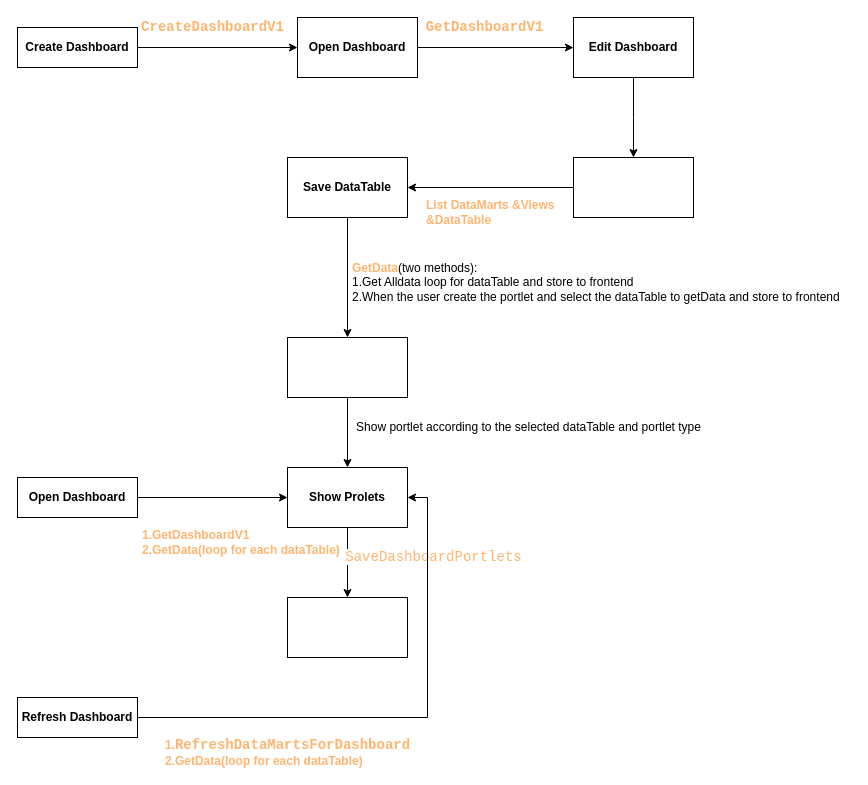
The diagram is 868 pixels wide and 785 high, and some of its shapes have lost their labels. Here are the shapes that lost their labels. From the top down, the centre of each, then its label:
the point at 633,187: Create DataTable
the point at 347,367: Create Prolets
the point at 347,627: Save Prolets
